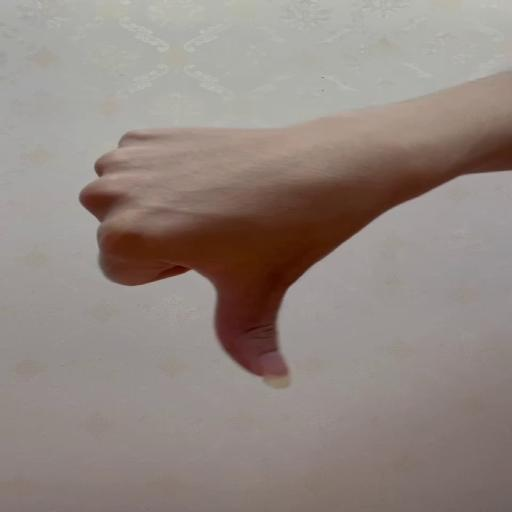thumbs_down: (82, 124, 351, 390)
